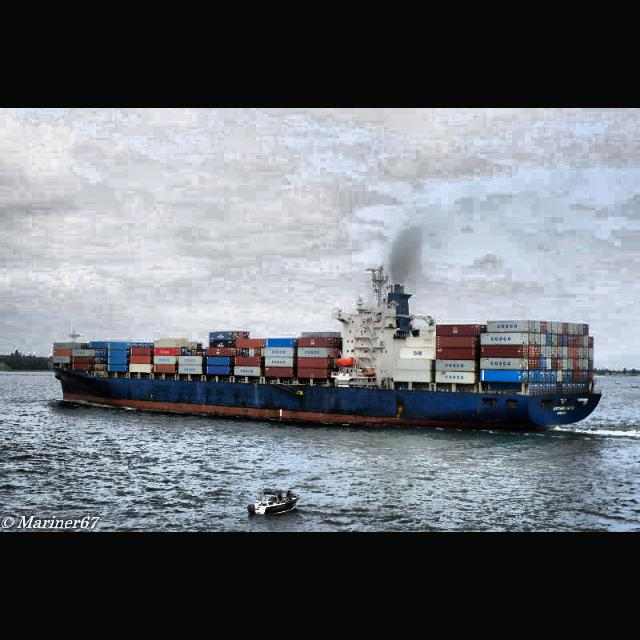container: (47, 263, 603, 435)
